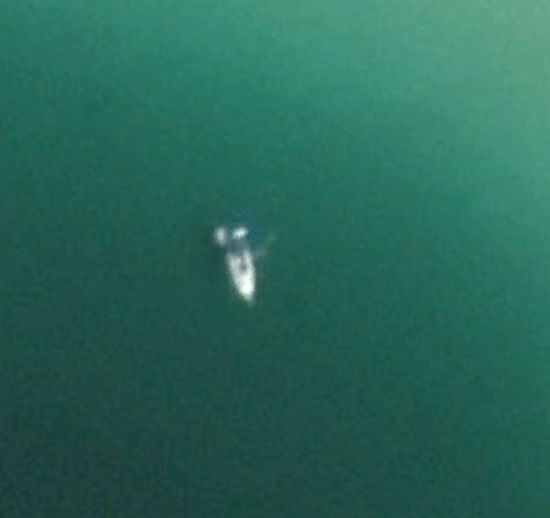boat: (212, 223, 263, 314)
